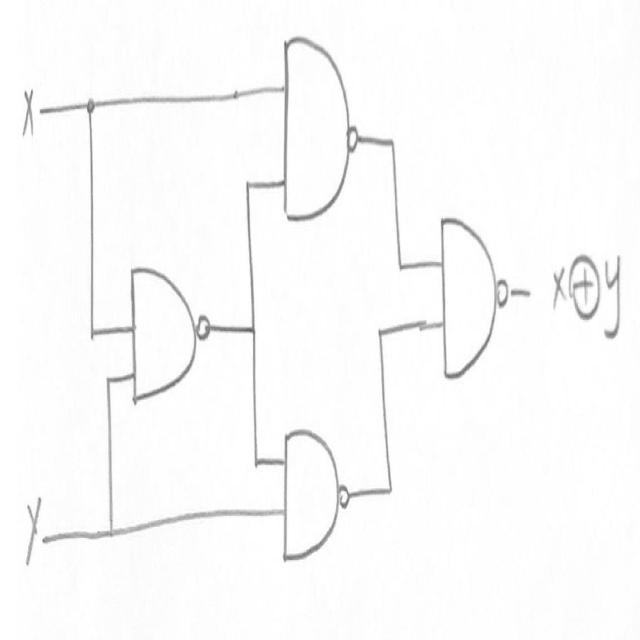NAND: (273, 17, 365, 245), (122, 248, 225, 422), (434, 190, 518, 400), (272, 406, 358, 579)
